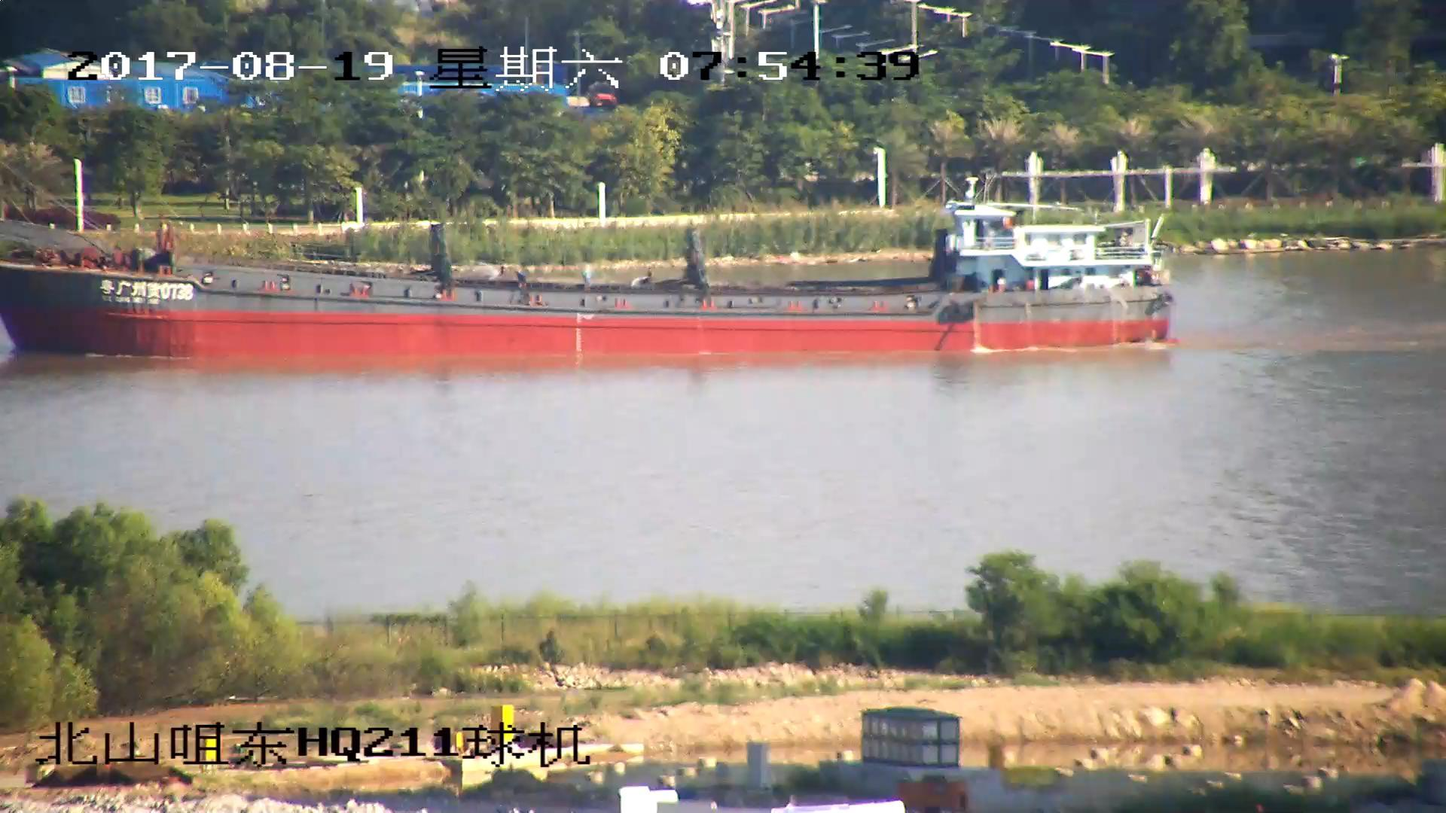bulk cargo carrier: (0, 199, 1173, 358)
